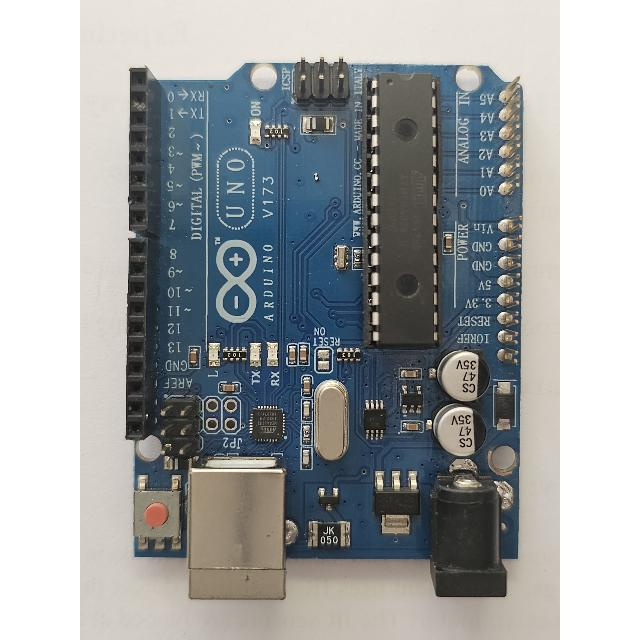missing_analog_pins: (492, 70, 525, 377)
